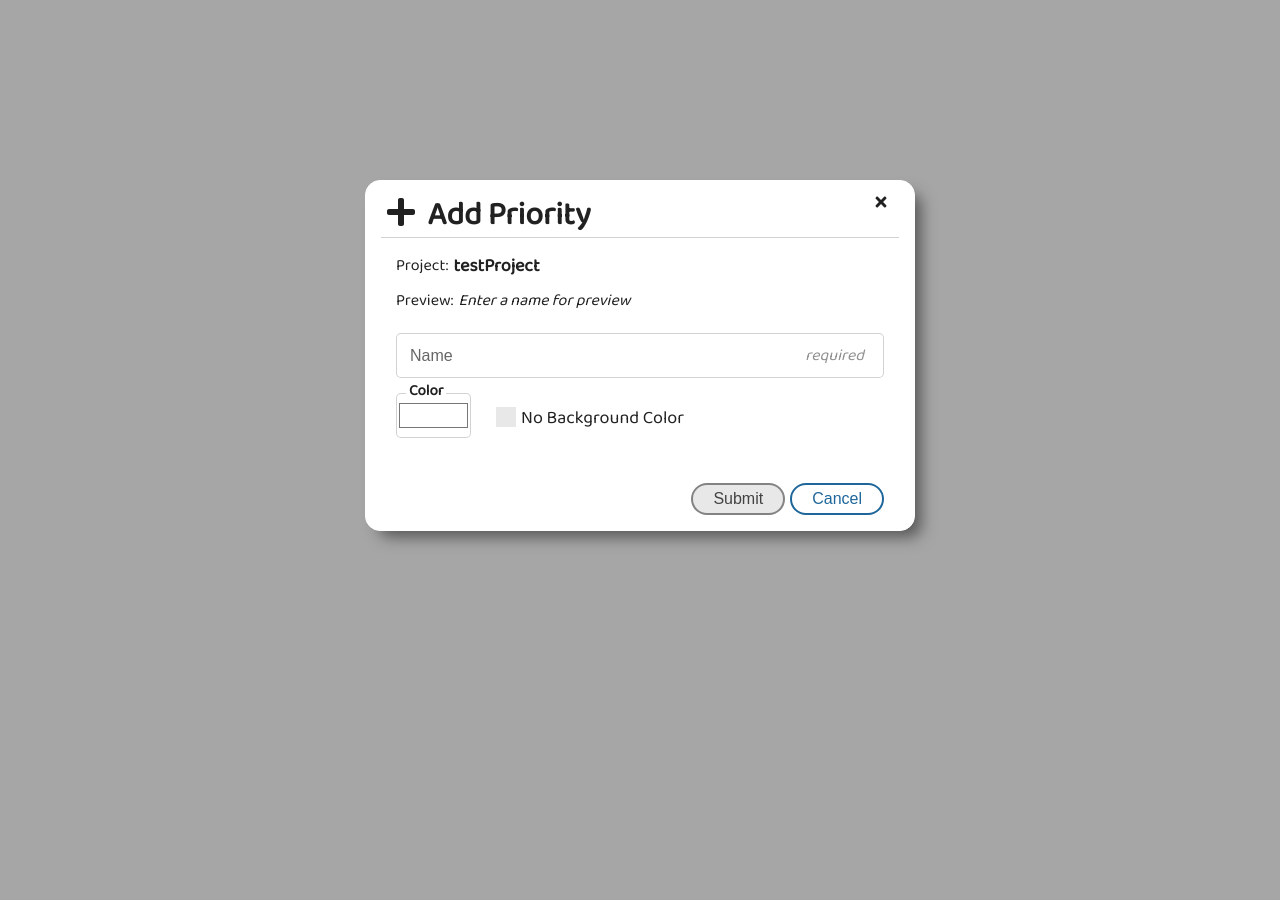
Test: <ProjectConfigModal /> › should render preview text if there is name input
The image size is (1280, 900).
Type "some name input" into the field with test id "nameInput.input". click: (640, 356)
box: [396, 333, 884, 378]
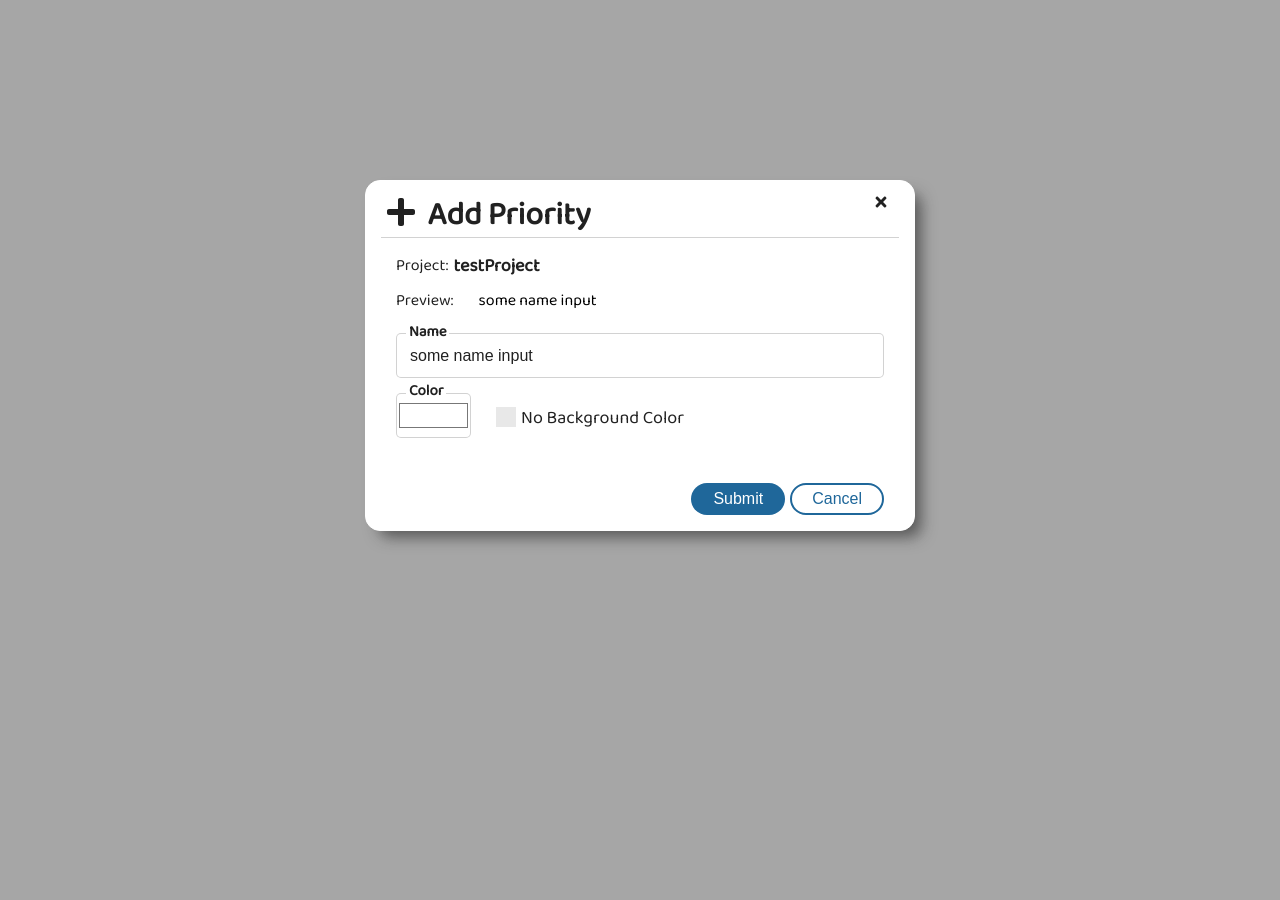
Now the text "some name input" is shown, box [469, 288, 607, 313]
